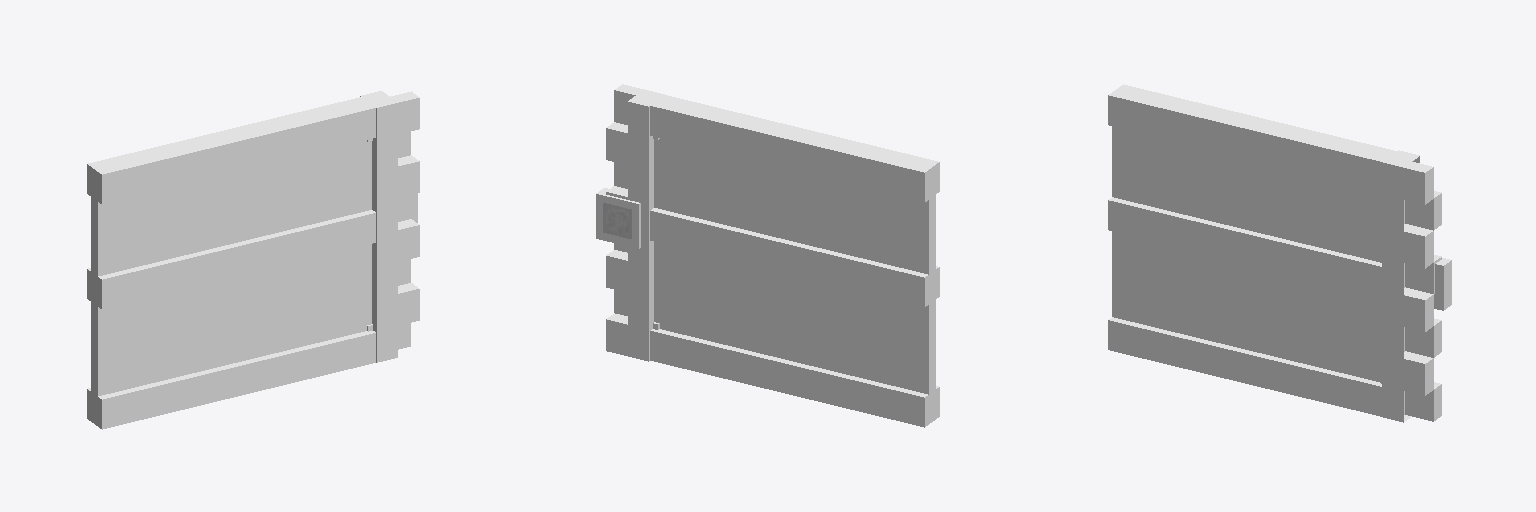
The picture shows the model from 3 angles: view 1: azimuth 30°, elevation 25°; view 2: azimuth 150°, elevation 25°; view 3: azimuth 330°, elevation 25°; orthographic projection.
Visible parts, largest first — view 1: HeavyDoorV2; view 2: HeavyDoorV2; view 3: HeavyDoorV2.
Part boxes in pixels (left/top/right/bottom): HeavyDoorV2: left=87, top=91, right=419, bottom=429; HeavyDoorV2: left=596, top=84, right=939, bottom=427; HeavyDoorV2: left=1108, top=84, right=1451, bottom=422.
Size of the model in its own units: 5.68 by 4.25 by 0.553.
3 materials, 2 textured.